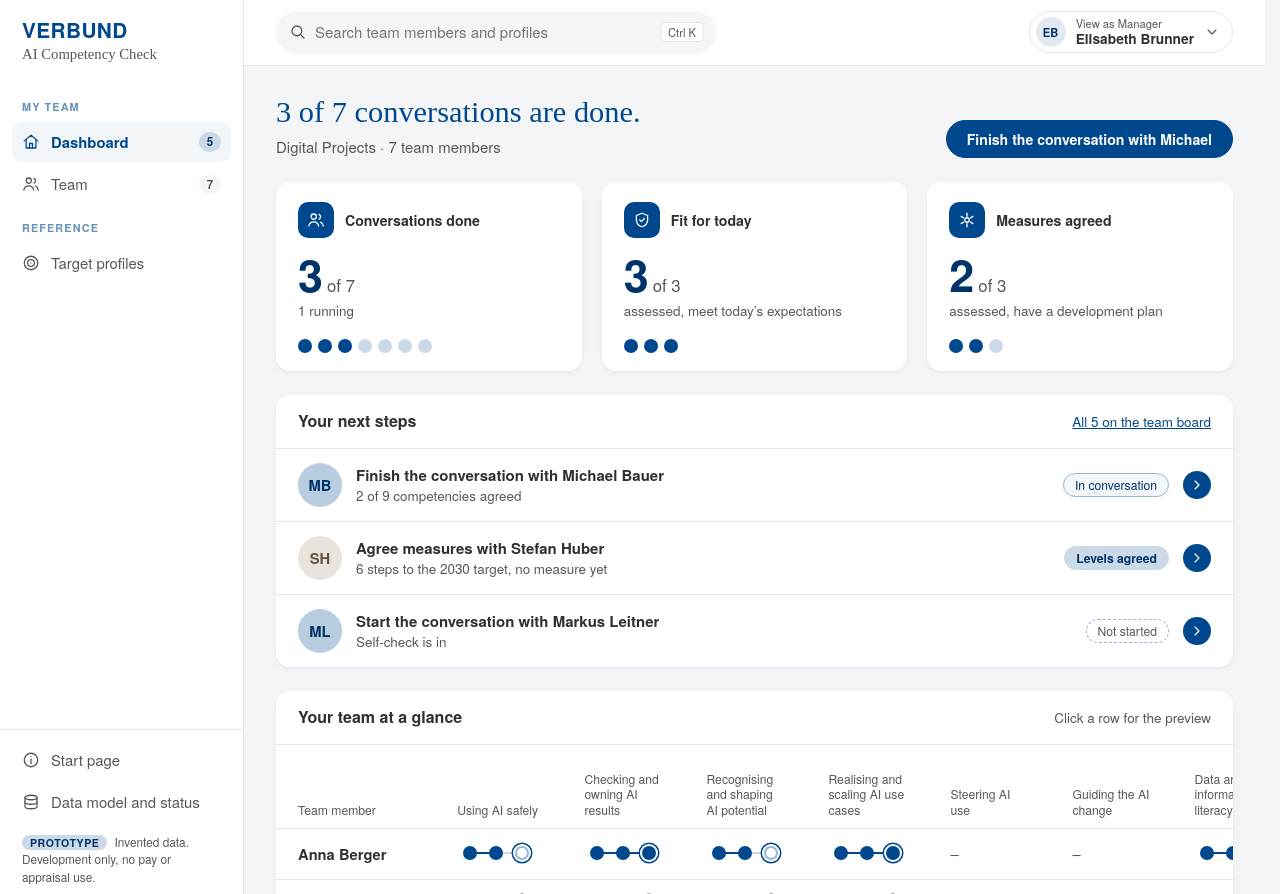
it: view as › resets the demo data with a confirmation
Expected: the navigation bar named "Main" is shown, [12,100,231,273]
Click the button "EB View as Manager Elisabeth Brunner": (1131, 32) [1029,11,1233,53]
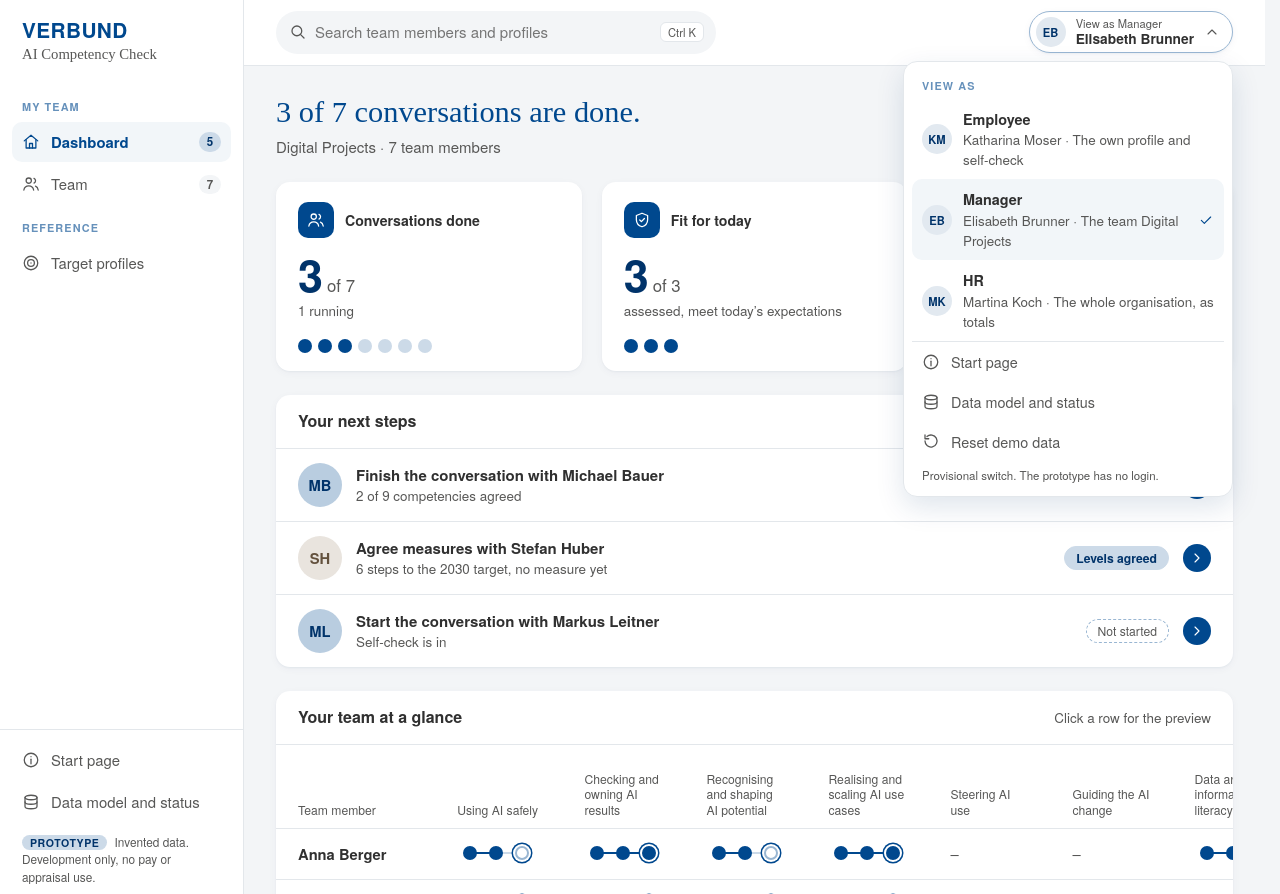
Click the button "Reset demo data": (1006, 441) [912,422,1224,461]
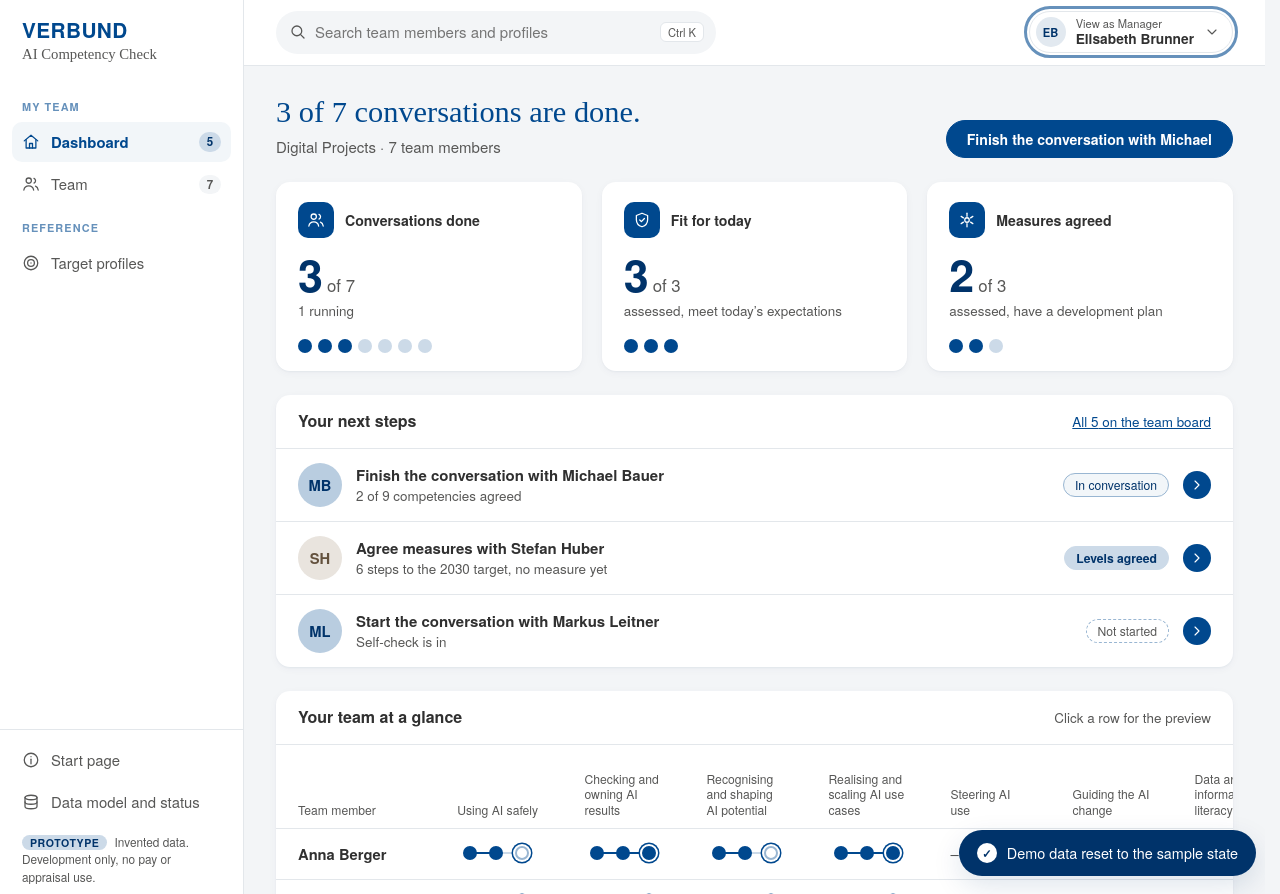
Now the message shows "Demo data reset", box [1007,842,1238,863]
